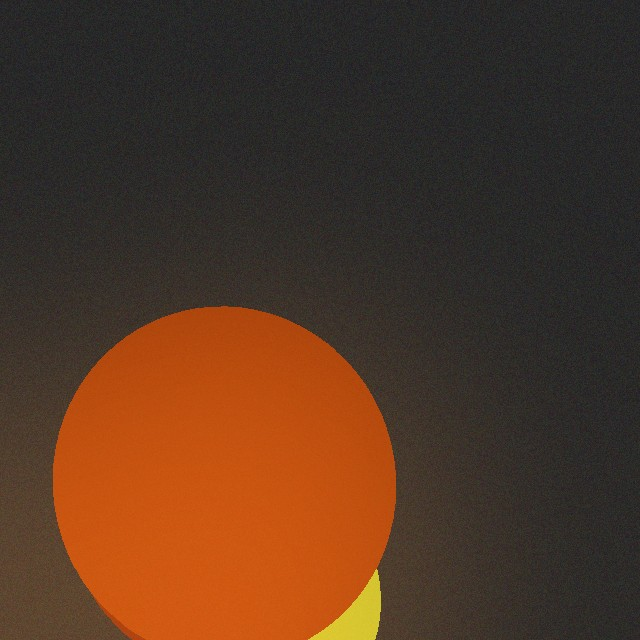fire: (77, 488, 381, 602)
